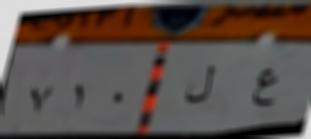0: (109, 83, 127, 115)
1: (67, 77, 91, 116)
7: (26, 78, 56, 118)
ain: (251, 62, 282, 113)
laam: (180, 63, 219, 114)
